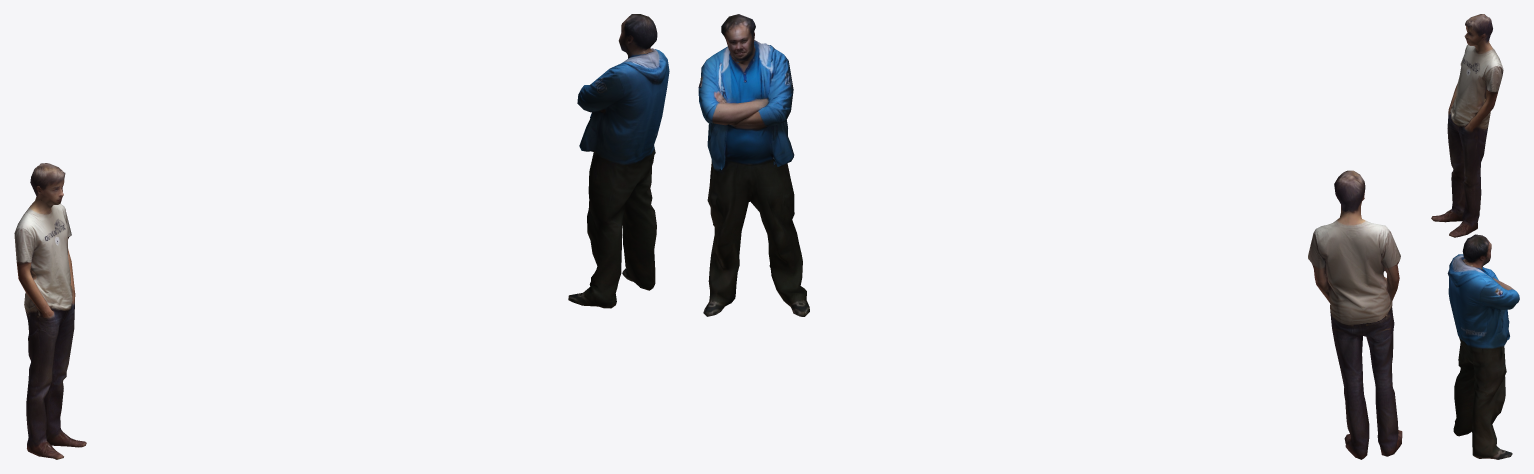
Rendered from Final_people.obj.
3 renders of one model, left to right at view 1: azimuth 30°, elevation 25°; view 2: azimuth 150°, elevation 25°; view 3: azimuth 270°, elevation 25°, orthographic. The views are drawn at different scales.
Visible parts, largest first — view 1: 03_person.003_03_person_0_03_person.003_03_person_0.001, 02_person.003_02_person_0_02_person.003_02_person_0.001; view 2: 03_person.003_03_person_0_03_person.003_03_person_0.001, 02_person.003_02_person_0_02_person.003_02_person_0.001; view 3: 03_person.003_03_person_0_03_person.003_03_person_0.001, 02_person.003_02_person_0_02_person.003_02_person_0.001.
Part boxes in pixels (bbox=[...]): 03_person.003_03_person_0_03_person.003_03_person_0.001: bbox=[568, 14, 669, 308]; 02_person.003_02_person_0_02_person.003_02_person_0.001: bbox=[14, 163, 86, 459]; 03_person.003_03_person_0_03_person.003_03_person_0.001: bbox=[698, 14, 809, 316]; 02_person.003_02_person_0_02_person.003_02_person_0.001: bbox=[1308, 170, 1402, 459]; 03_person.003_03_person_0_03_person.003_03_person_0.001: bbox=[1447, 234, 1519, 459]; 02_person.003_02_person_0_02_person.003_02_person_0.001: bbox=[1431, 14, 1503, 237].
Bounding box in the file's own units: 5.02 × 2.05 × 0.7454.
Materials: 2 (2 with a texture image).
